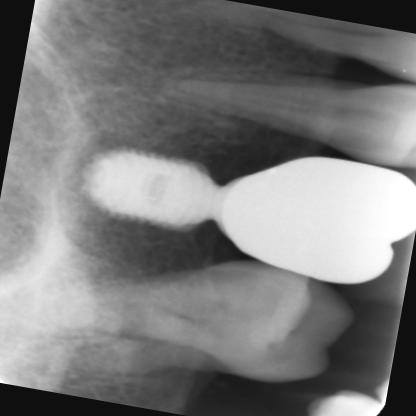Bicon: (74, 140, 234, 238)
